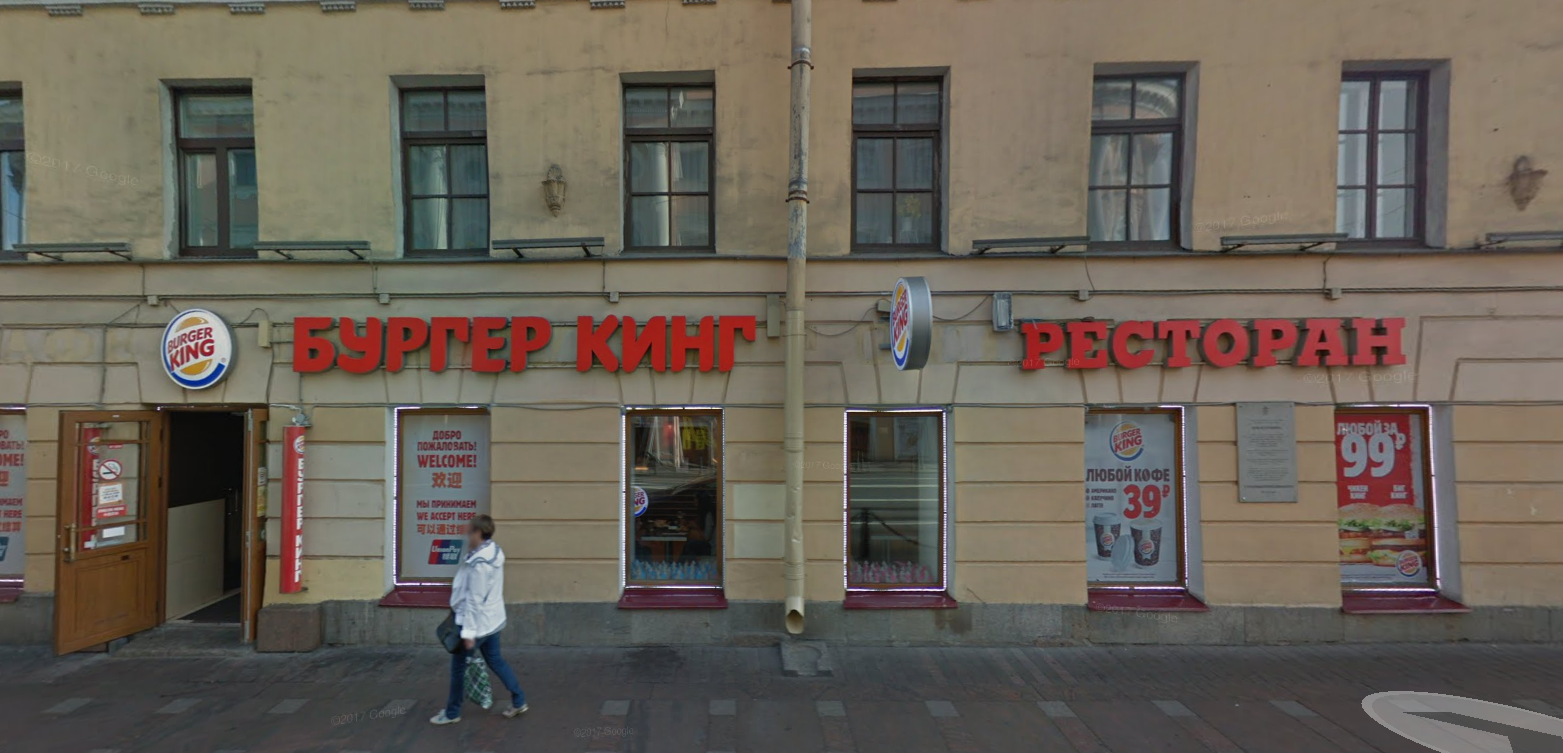cantilever: (864, 261, 940, 386)
door: (54, 402, 271, 655)
signboard: (158, 302, 758, 385), (1013, 308, 1417, 377)
win_ad: (1335, 407, 1432, 592), (1086, 407, 1185, 583), (399, 410, 489, 576)
window: (1086, 405, 1187, 591), (1337, 406, 1436, 594), (851, 411, 944, 598), (632, 412, 725, 590), (847, 73, 940, 248), (1338, 73, 1431, 245), (397, 413, 491, 578), (1088, 78, 1180, 245), (171, 80, 253, 255), (626, 88, 713, 248), (404, 89, 486, 254)
